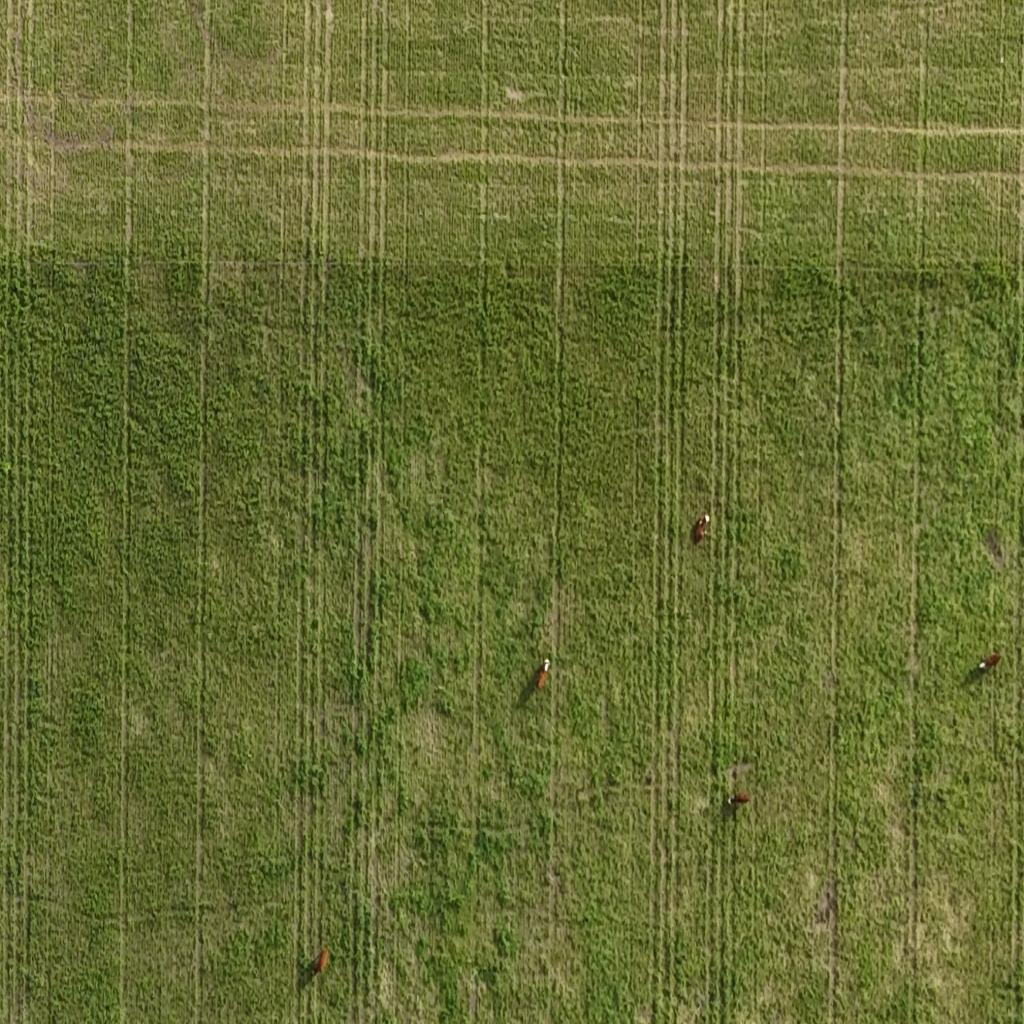cow: (971, 657, 1003, 687), (307, 946, 329, 981), (690, 508, 711, 542), (535, 653, 552, 690), (723, 790, 748, 812)
